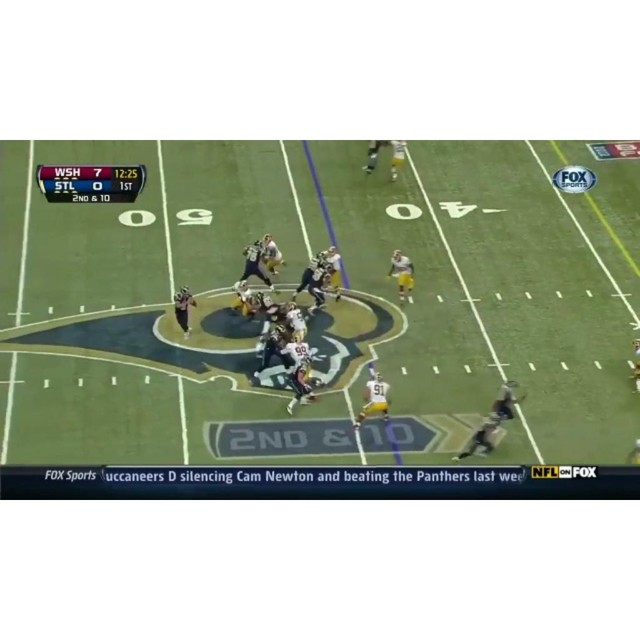american-football-player: (452, 412, 507, 462), (353, 371, 392, 430), (252, 323, 288, 384), (284, 350, 316, 418), (234, 239, 275, 292), (290, 253, 324, 304), (388, 249, 415, 304), (172, 285, 197, 339), (491, 380, 523, 421), (262, 234, 287, 276), (232, 283, 258, 321), (286, 303, 309, 344), (360, 141, 387, 175), (388, 140, 408, 181), (628, 338, 640, 394)
